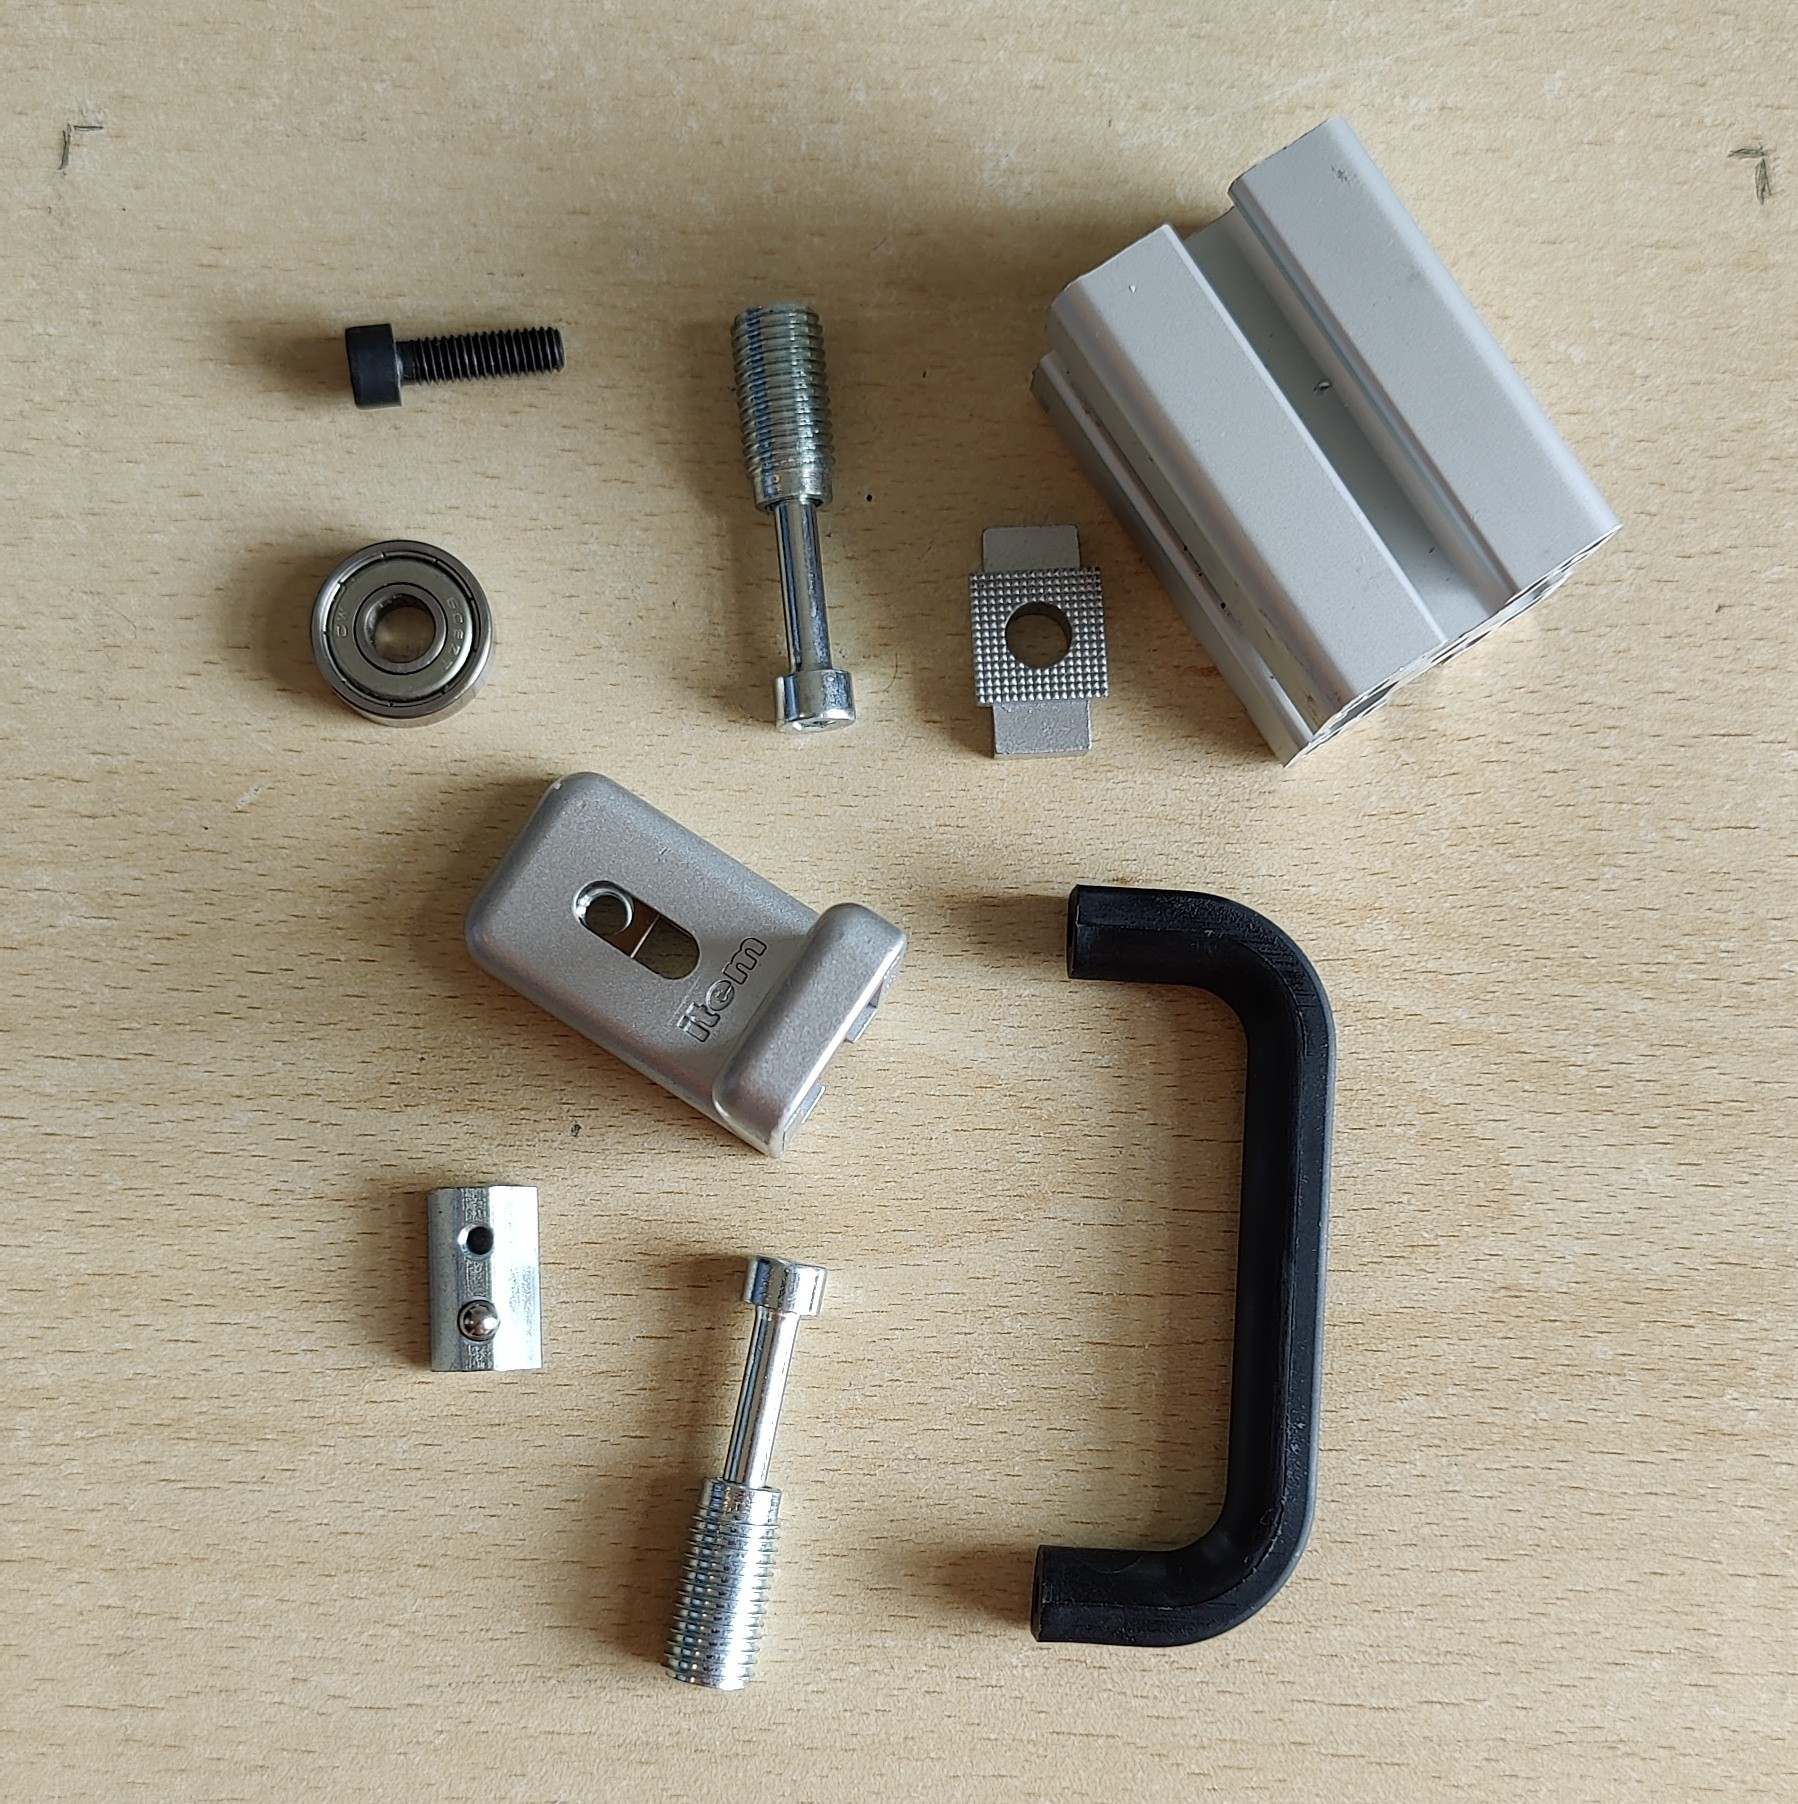Aluminium Extension: (1026, 110, 1628, 774)
Ball Bearing: (306, 537, 497, 731)
Multiwinkel: (463, 769, 914, 1164)
Pull Handle: (1029, 884, 1340, 1651)
Shoulder Socket Head Cap Screw: (659, 1251, 828, 1694), (726, 300, 859, 737)
Socket Head Cap Screw: (341, 316, 570, 411)
T Nut Square: (965, 518, 1111, 764)
T Spring Nut: (418, 1179, 548, 1378)
